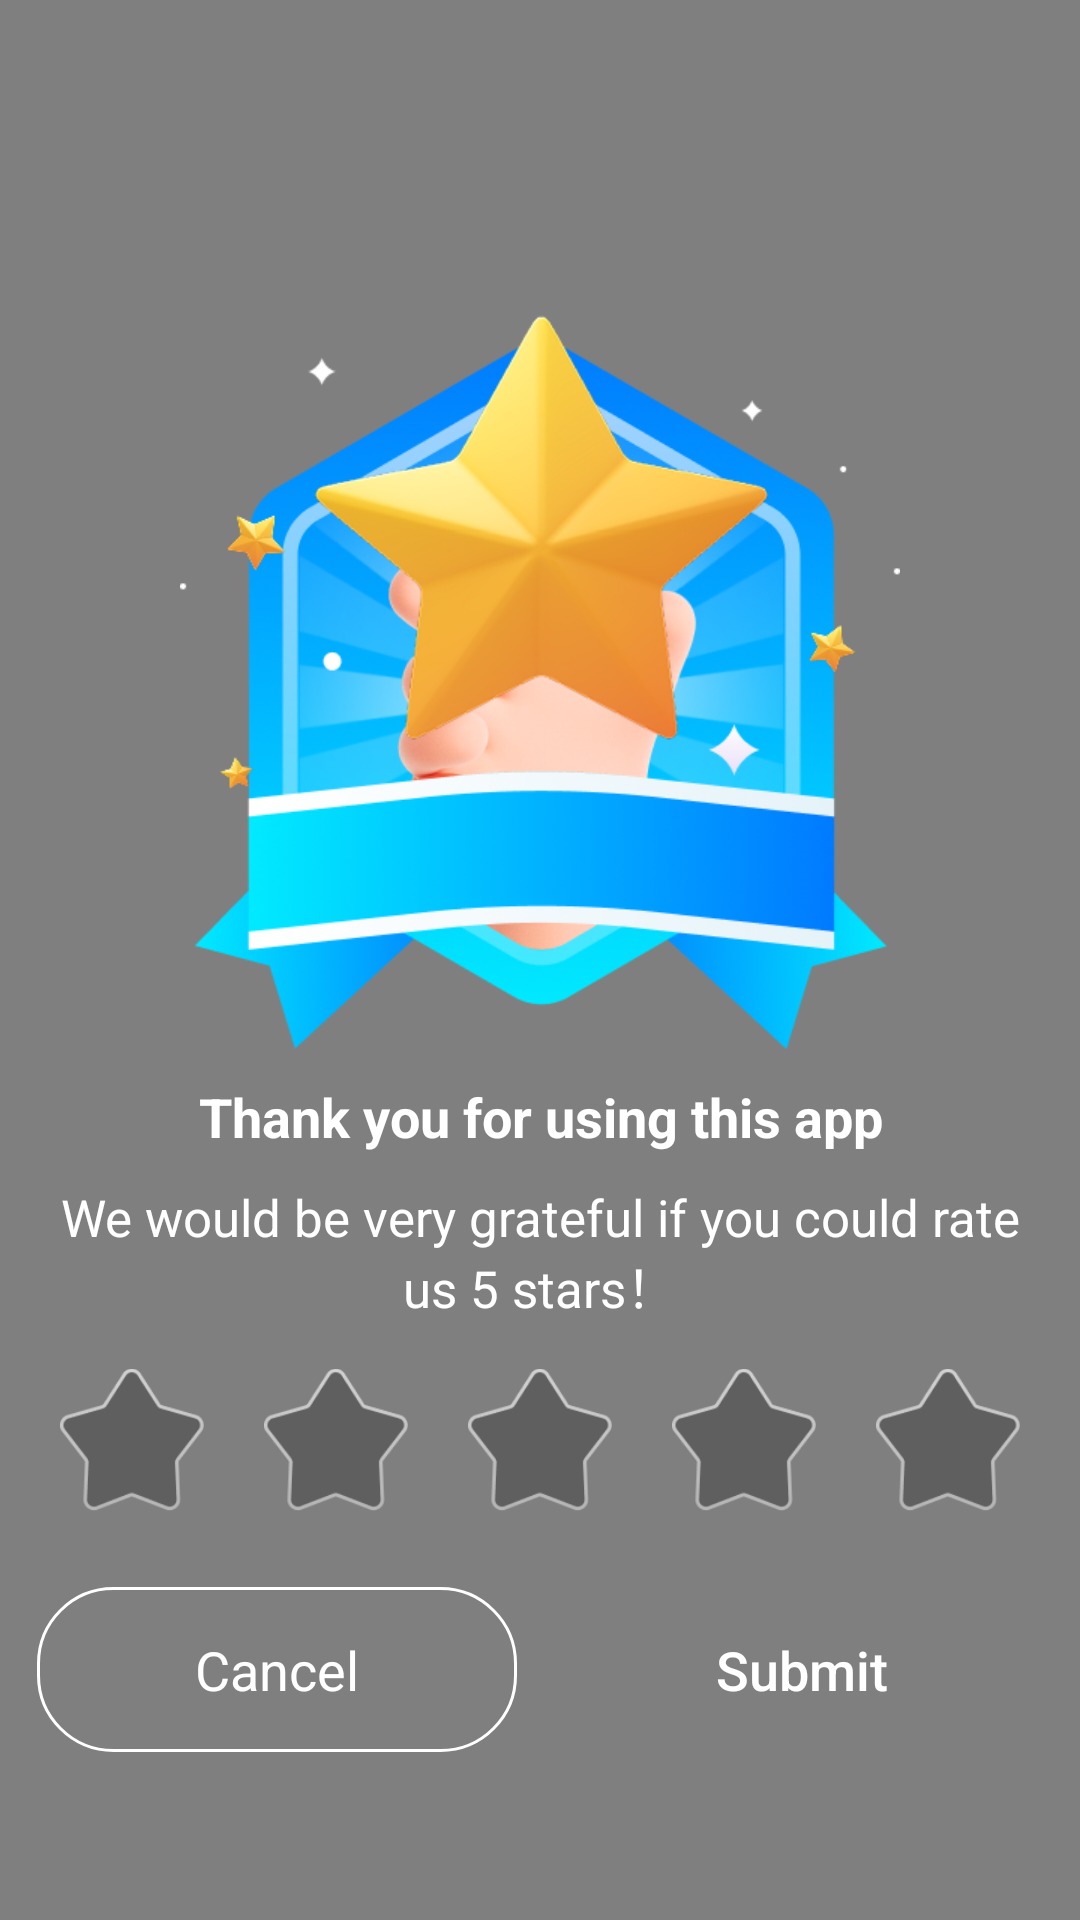

Where to tap for icons on this 1080*1920 app screen, as point (x, y):
Star 1: point (132, 1439)
Star 2: point (336, 1439)
Star 3: point (540, 1439)
Star 4: point (744, 1439)
Star 5: point (948, 1439)
